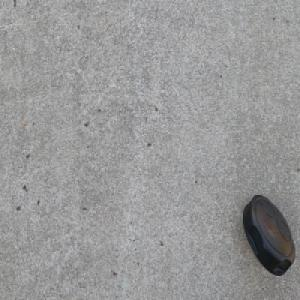FuelCap: (242, 193, 295, 277)
